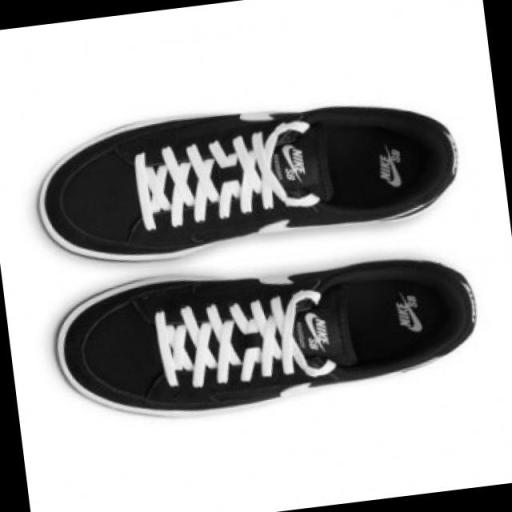Nike: (304, 311, 319, 346), (290, 148, 306, 174)
